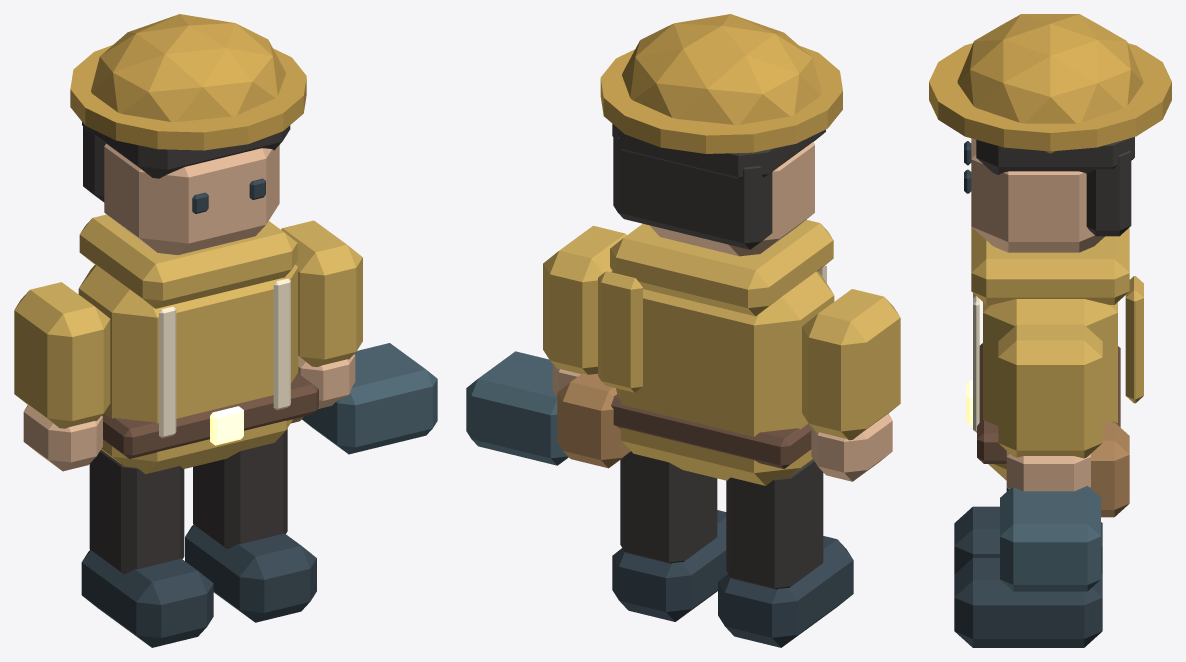
Rendered from person-engineer.glb.
3 renders of one model, left to right at view 1: azimuth 30°, elevation 25°; view 2: azimuth 150°, elevation 25°; view 3: azimuth 270°, elevation 25°, orthographic. The views are drawn at different scales.
Parts seen in each view (by area): view 1: tunic.005, hardhat-dome, head.005, sleeve.010, scarf.005, leg.010, tool-case, hardhat-brim, boot.010, sleeve.011, boot.011, leg.011 (+8 smaller); view 2: tunic.005, hardhat-dome, sleeve.010, scarf.005, hair-back.005, leg.010, hardhat-brim, leg.011, tool-case, boot.010, sleeve.011, boot.011 (+6 smaller); view 3: hardhat-dome, sleeve.011, tool-case, hardhat-brim, boot.011, head.005, scarf.005, tunic.005, hair.005, hair-back.005, satchel.005, hand.011 (+4 smaller).
Boxes of the visible parts, left/top/right/bottom form: tunic.005: left=78, top=264, right=298, bottom=474; hardhat-dome: left=91, top=14, right=285, bottom=121; head.005: left=104, top=143, right=279, bottom=254; sleeve.010: left=14, top=282, right=110, bottom=428; scarf.005: left=79, top=214, right=297, bottom=308; leg.010: left=89, top=450, right=184, bottom=573; tool-case: left=302, top=343, right=437, bottom=454; hardhat-brim: left=70, top=45, right=306, bottom=150; boot.010: left=81, top=549, right=213, bottom=647; sleeve.011: left=281, top=220, right=362, bottom=366; boot.011: left=185, top=524, right=316, bottom=622; leg.011: left=193, top=428, right=287, bottom=548; tunic.005: left=611, top=271, right=834, bottom=485; hardhat-dome: left=622, top=14, right=821, bottom=124; sleeve.010: left=802, top=289, right=900, bottom=440; scarf.005: left=610, top=219, right=833, bottom=316; hair-back.005: left=613, top=131, right=772, bottom=249; leg.010: left=726, top=459, right=823, bottom=589; hardhat-brim: left=600, top=45, right=842, bottom=153; leg.011: left=620, top=451, right=717, bottom=563; tool-case: left=466, top=351, right=568, bottom=465; boot.010: left=718, top=536, right=853, bottom=647; sleeve.011: left=543, top=225, right=626, bottom=374; boot.011: left=612, top=510, right=727, bottom=621; hardhat-dome: left=957, top=14, right=1143, bottom=153; sleeve.011: left=998, top=324, right=1102, bottom=458; tool-case: left=1000, top=486, right=1100, bottom=591; hardhat-brim: left=929, top=43, right=1171, bottom=151; boot.011: left=954, top=558, right=1102, bottom=647; head.005: left=971, top=138, right=1104, bottom=252; scarf.005: left=971, top=227, right=1129, bottom=304; tunic.005: left=983, top=299, right=1117, bottom=480; hair.005: left=976, top=137, right=1134, bottom=174; hair-back.005: left=1086, top=150, right=1131, bottom=236; satchel.005: left=1090, top=422, right=1129, bottom=517; hand.011: left=1006, top=451, right=1090, bottom=491.
Bounding box in the file's own units: 1.35 × 1.92 × 0.72.
